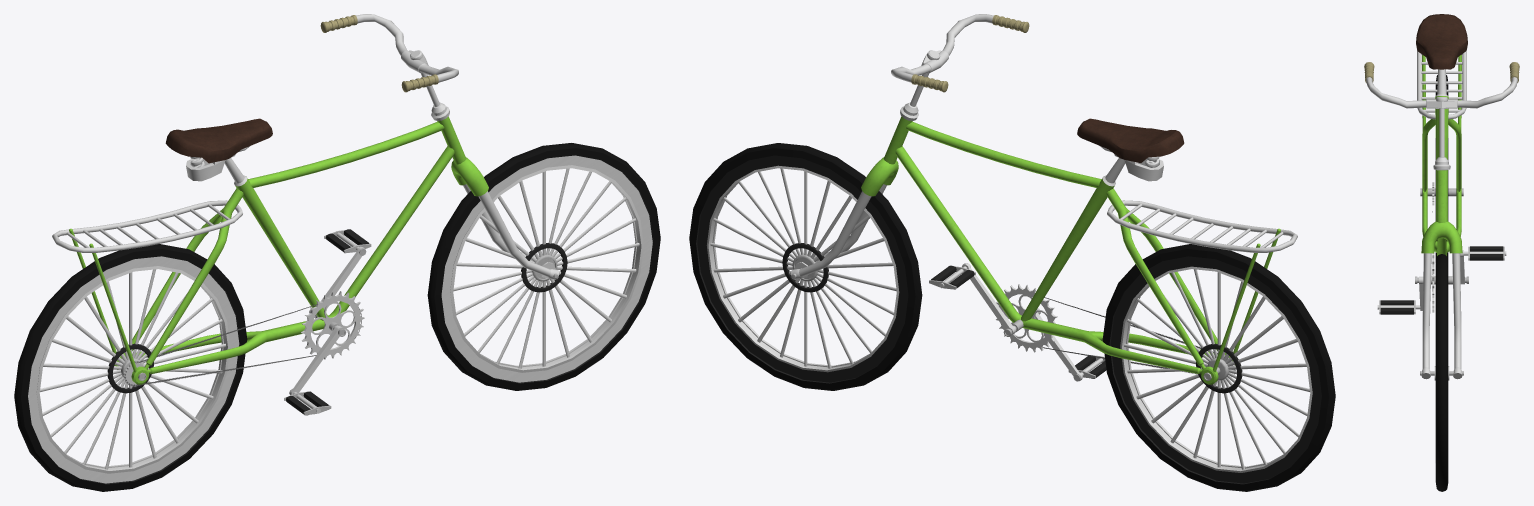
File: greenBike.fbx
3 views of the same model, side by side, from view 1: azimuth 30°, elevation 25°; view 2: azimuth 150°, elevation 25°; view 3: azimuth 270°, elevation 25° (orthographic). The views are drawn at different scales.
Parts seen in each view (by area): view 1: greenBike_NoMove; view 2: greenBike_NoMove; view 3: greenBike_NoMove.
Boxes of the visible parts, left/top/right/bottom form: greenBike_NoMove: left=14, top=14, right=660, bottom=491; greenBike_NoMove: left=689, top=14, right=1335, bottom=491; greenBike_NoMove: left=1364, top=14, right=1519, bottom=491.
Bounding box in the file's own units: 2.57 × 1.44 × 0.5974.
